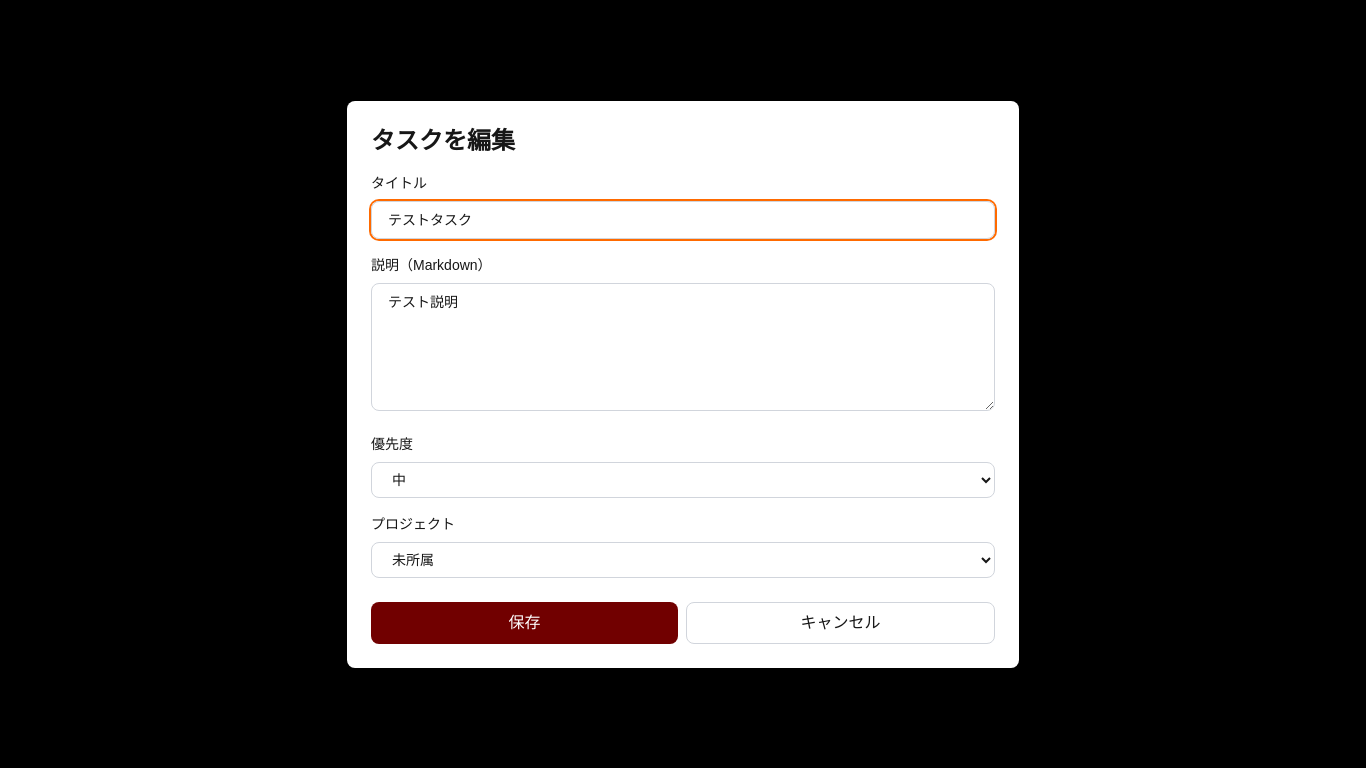
TaskEditModal › API更新失敗時のエラー表示
This screenshot has width=1366, height=768.
ユーザーが「保存」ボタンをクリックし、API呼び出しが失敗
Click the button "保存".
click(524, 622)  # box [371,602,678,644]
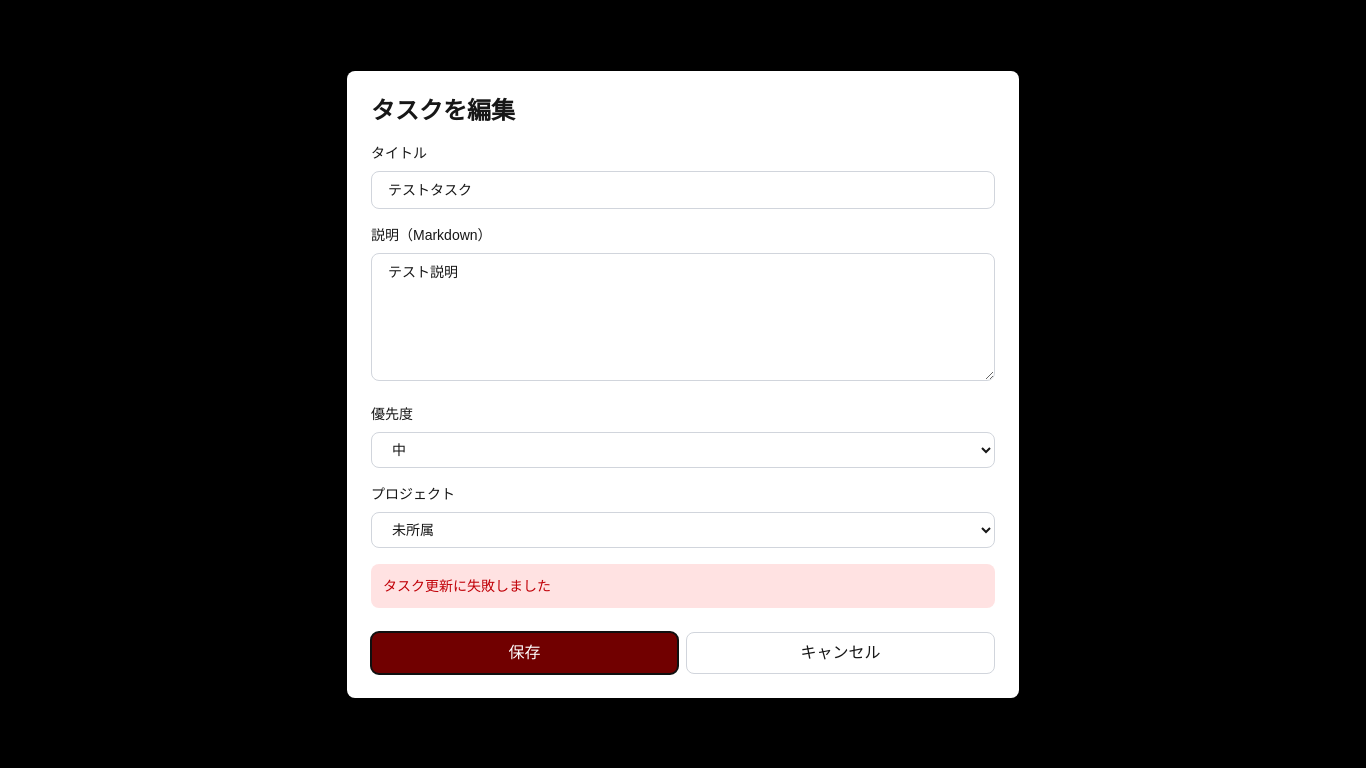
expect the text "タスク更新に失敗しました" is shown: met, box [383,578,551,594]
